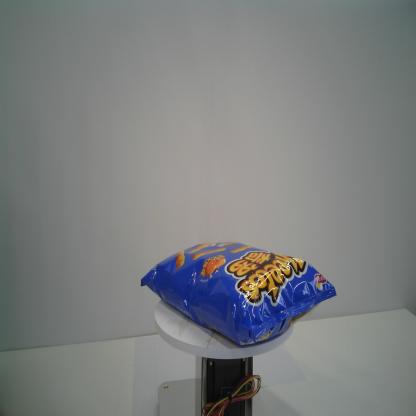Puffed Food: (139, 240, 337, 346)
